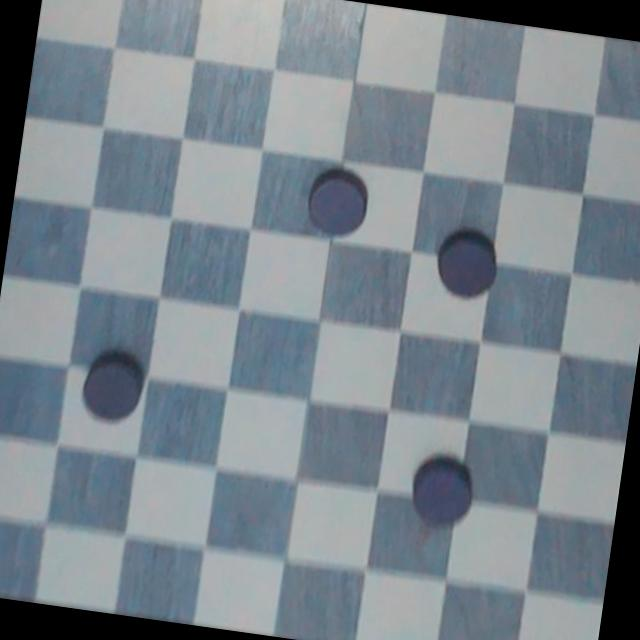BOARD: (0, 0, 640, 640)
black: (68, 345, 160, 431), (424, 212, 504, 308), (404, 444, 483, 536), (295, 158, 379, 243)
